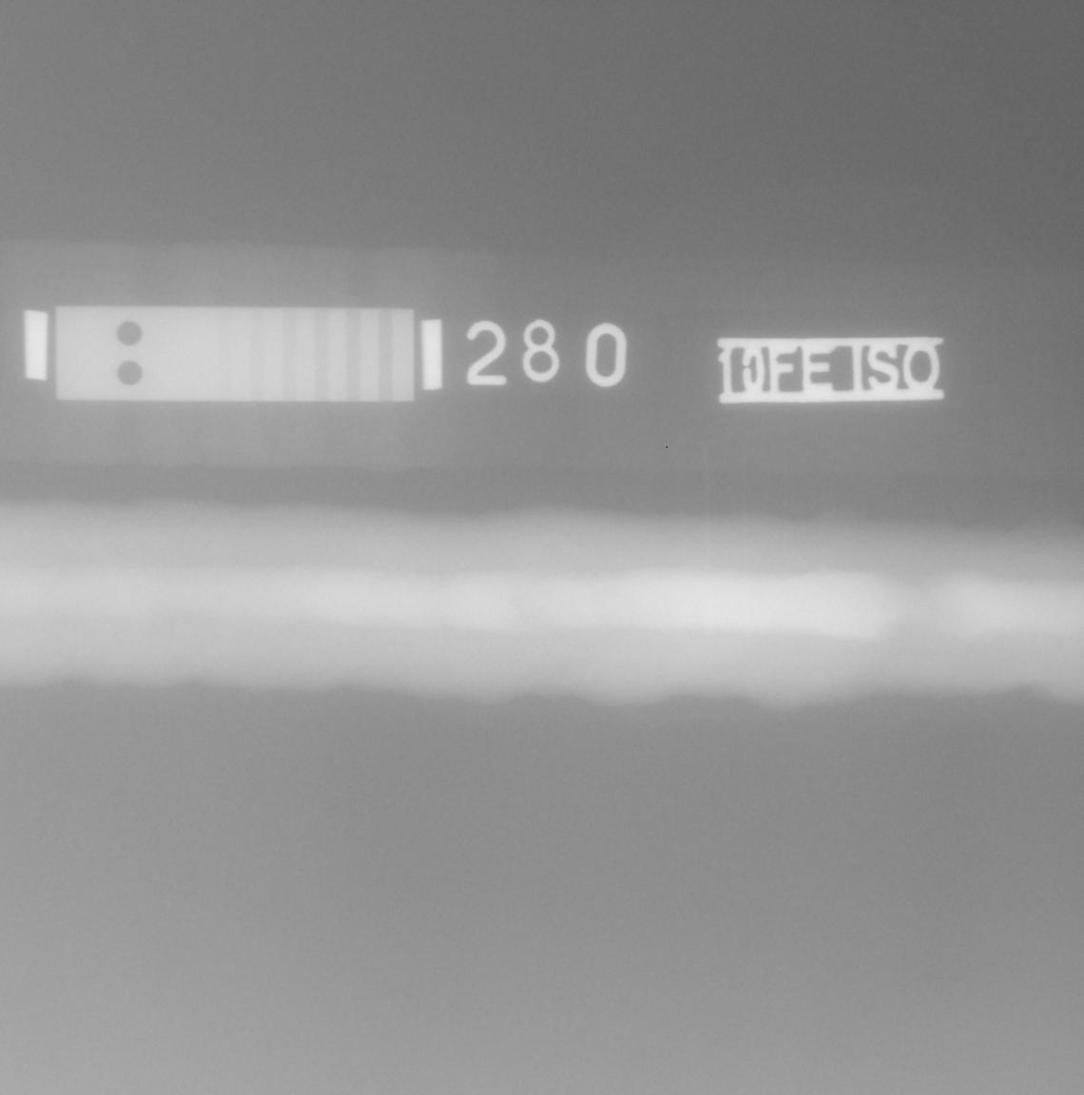Reference Standard 2: (55, 306, 414, 402)
